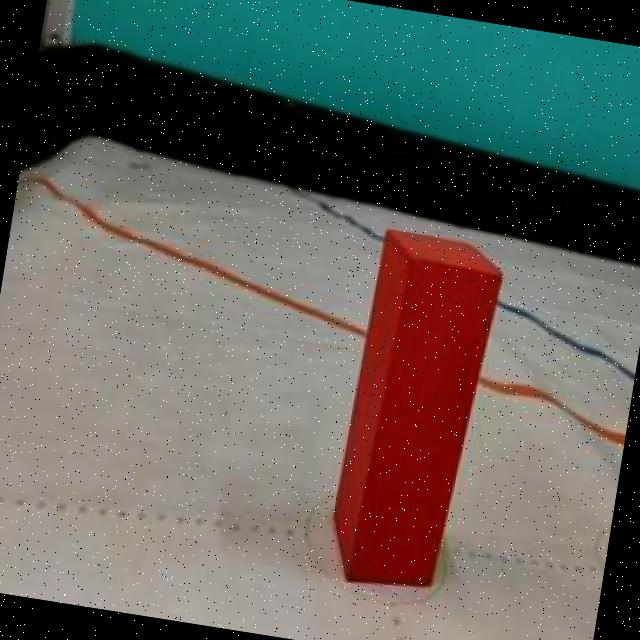redbox: (320, 226, 508, 596)
